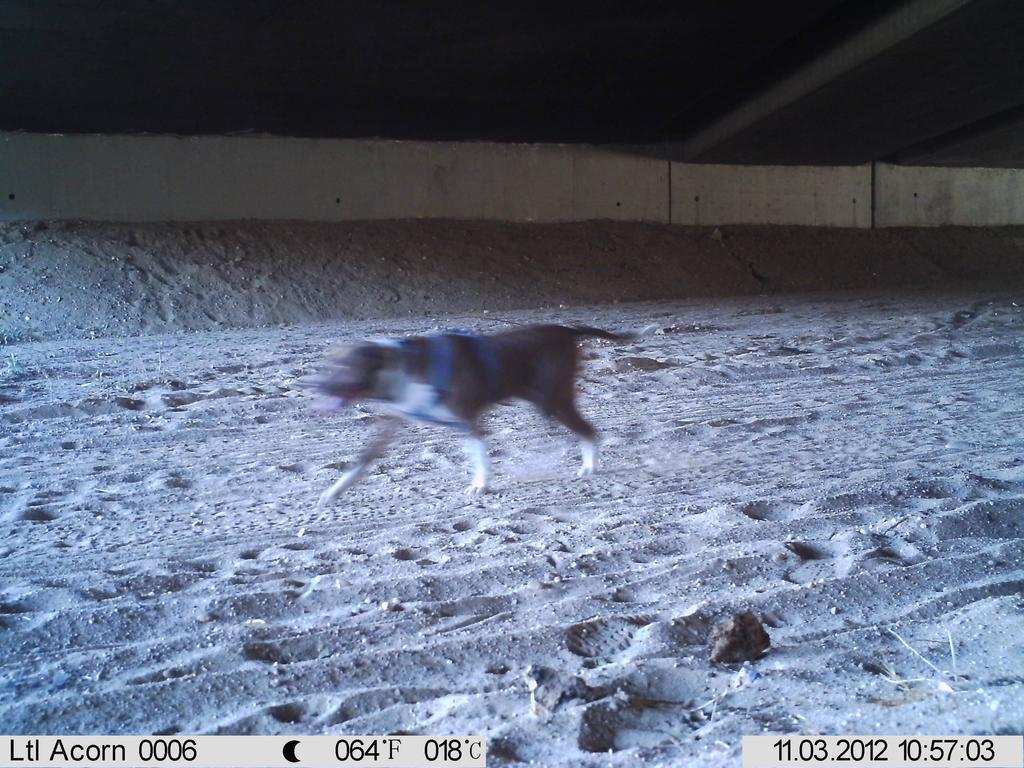dog: (299, 287, 649, 525)
